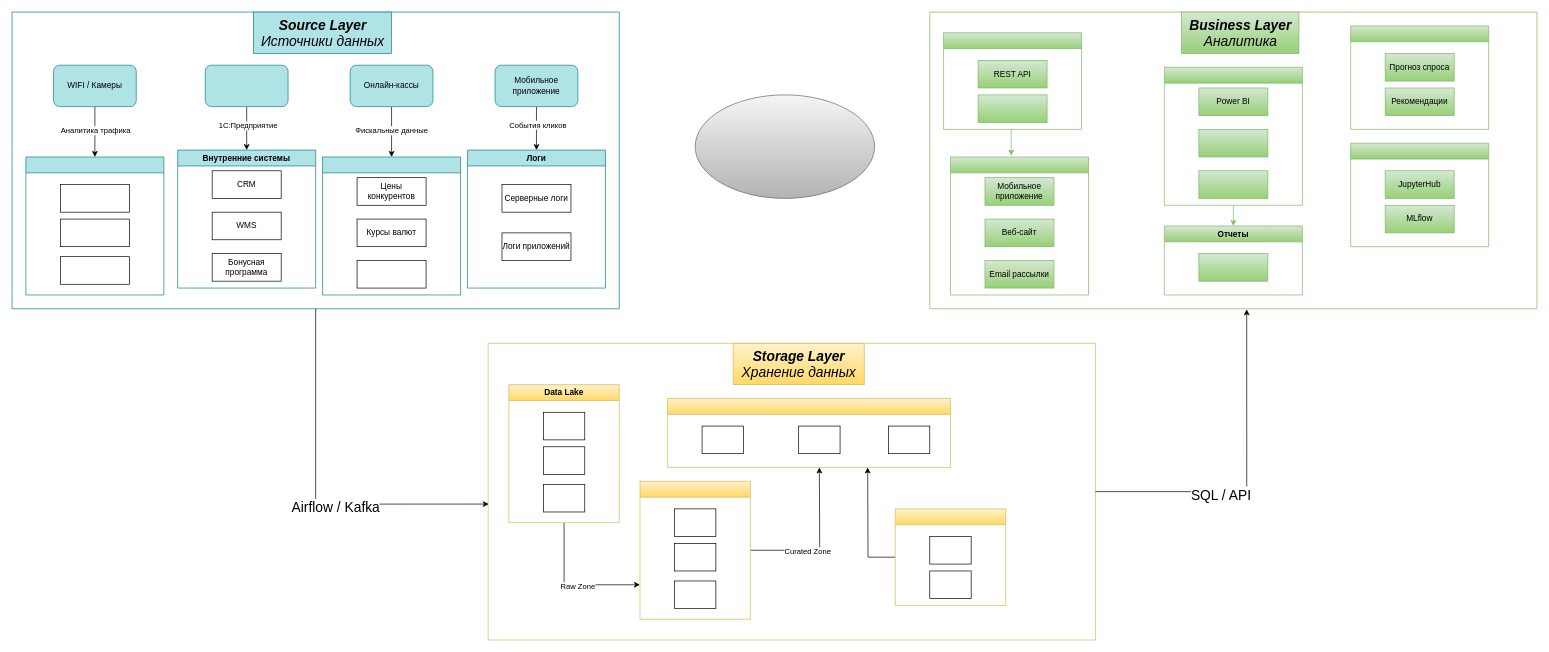
Image size: 1549x652. Some labels were removed from this diagram. Here are the shapes that lost their labels. From the top down, the box of each, then its label:
(205, 65, 288, 107): Транзакционные системы
(943, 32, 1082, 129): Интеграции
(1350, 25, 1489, 129): ML Serving
(694, 94, 875, 198): Магазин техники DNS
(1164, 67, 1302, 205): Визуализация
(1350, 142, 1489, 247): Инструменты DS
(25, 156, 164, 295): IoT
(322, 156, 461, 295): Внешние данные
(950, 156, 1088, 295): Потребители
(1198, 253, 1268, 281): Анализ
(667, 398, 950, 467): Data Warehouse
(639, 481, 750, 619): Обработка
(895, 508, 1006, 605): Кэш
